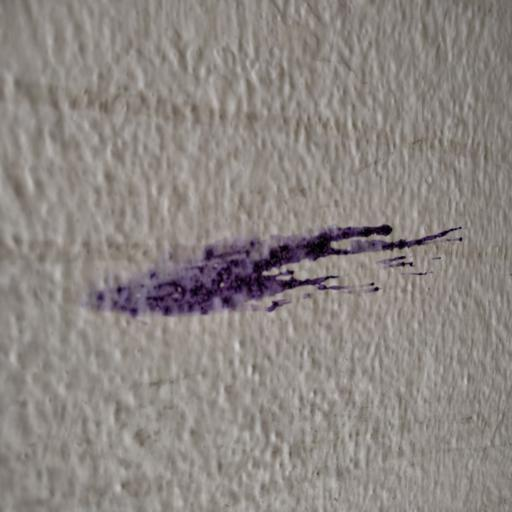stain: (78, 197, 491, 325)
